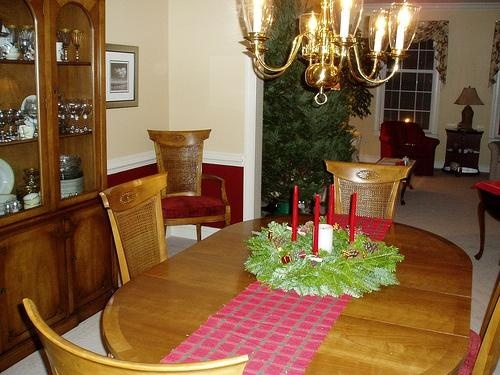chair: (18, 298, 252, 375), (93, 172, 171, 288), (150, 128, 233, 229), (324, 160, 413, 221), (380, 118, 443, 174), (468, 268, 500, 375)
diningtable: (102, 213, 473, 375)
